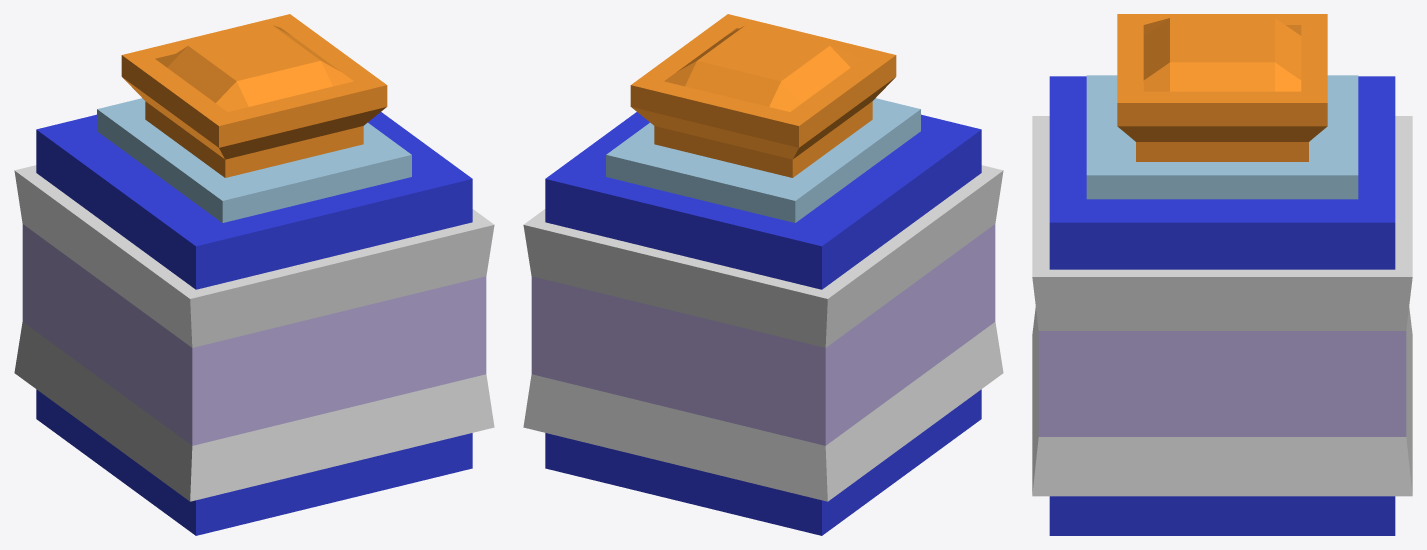
The model's file is speed.fbx.
3 views of the same model, side by side, from view 1: azimuth 30°, elevation 25°; view 2: azimuth 150°, elevation 25°; view 3: azimuth 270°, elevation 25° (orthographic). The views are drawn at different scales.
Parts seen in each view (by area): view 1: Cube.003, Cube.001, Cube.002, Cube; view 2: Cube.003, Cube.001, Cube.002, Cube; view 3: Cube.003, Cube.001, Cube.002, Cube.
Boxes of the visible parts, x1,y1,x2,y2 form: Cube.003: (14, 165, 494, 501); Cube.001: (36, 112, 472, 535); Cube.002: (121, 14, 387, 177); Cube: (97, 98, 411, 222); Cube.003: (523, 165, 1003, 501); Cube.001: (545, 112, 981, 535); Cube.002: (630, 14, 896, 177); Cube: (606, 98, 920, 222); Cube.003: (1032, 116, 1412, 496); Cube.001: (1049, 76, 1395, 535); Cube.002: (1117, 14, 1327, 161); Cube: (1086, 75, 1358, 199).
Size of the model in its own units: 110 by 135 by 110.
